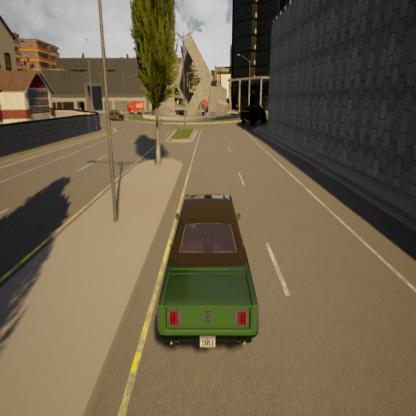Cars: (150, 187, 265, 362), (239, 99, 268, 133), (106, 101, 125, 124), (128, 98, 145, 115)
